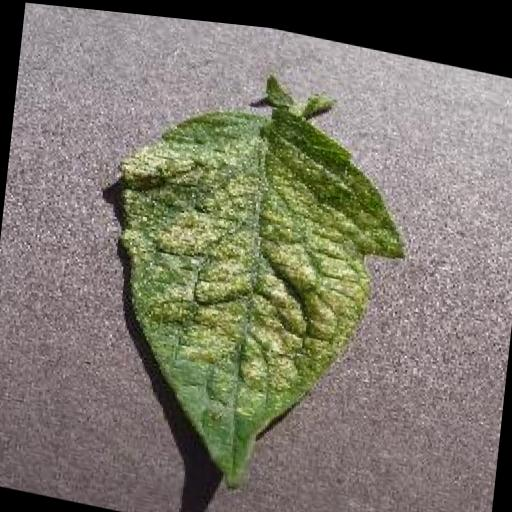Spider Mites: (90, 75, 418, 512)
